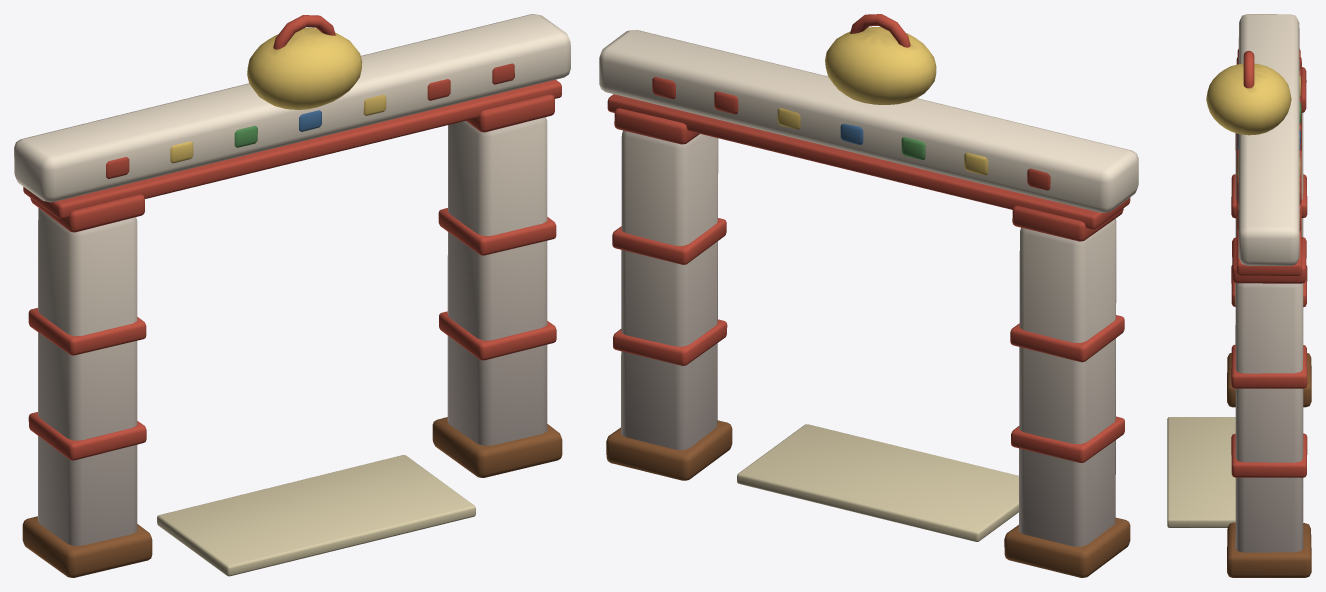
3 views of the same model, side by side, from view 1: azimuth 30°, elevation 25°; view 2: azimuth 150°, elevation 25°; view 3: azimuth 270°, elevation 25° (orthographic). The views are drawn at different scales.
Parts seen in each view (by area): view 1: gate_2f6acfbe; view 2: gate_2f6acfbe; view 3: gate_2f6acfbe.
Part boxes in pixels (x1,y1,x2,y2): gate_2f6acfbe: (14,14,570,577); gate_2f6acfbe: (599,14,1138,577); gate_2f6acfbe: (1167,14,1311,577).
Bounding box in the file's own units: 5.1 × 4.58 × 1.42.
